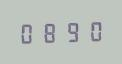eight: (39, 20, 59, 44)
nine: (60, 20, 80, 43)
zero: (18, 21, 38, 44), (81, 19, 101, 42)
